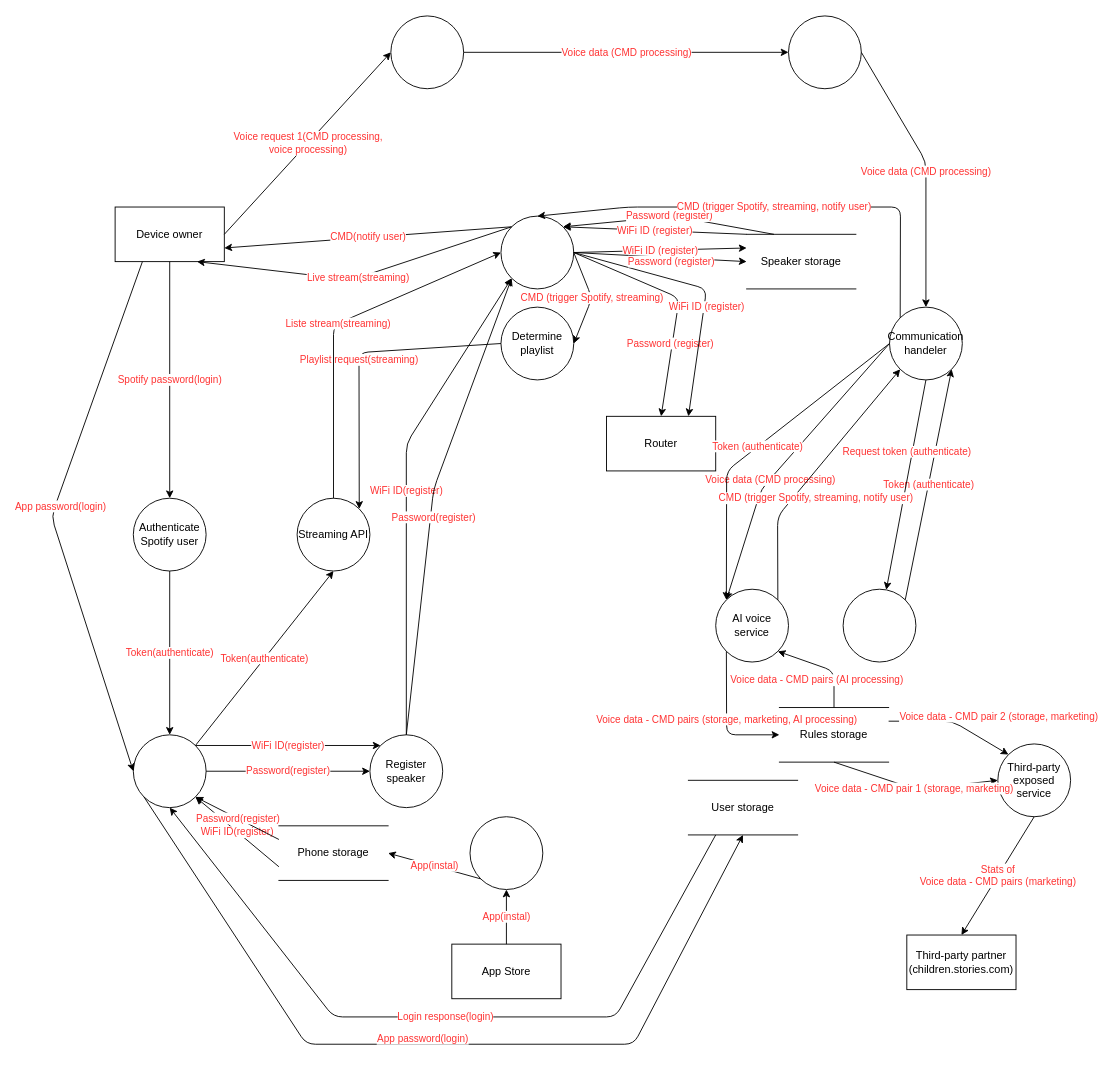
Some shapes in this 1114 by 1067 pixel diagram are drawn without their labels. The shapes that lost their labels are listed below. From the top down, each one's centre as x and y in pixels, then its label:
the point at 427,52: Keyword listener and signal processor
the point at 824,52: Send interpreted command
the point at 537,252: AI speaker core process
the point at 879,625: Authenticate client
the point at 169,771: Smart speaker app login
the point at 506,853: Install app on phone
